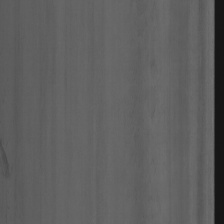water_spot: (0, 133, 15, 188)
